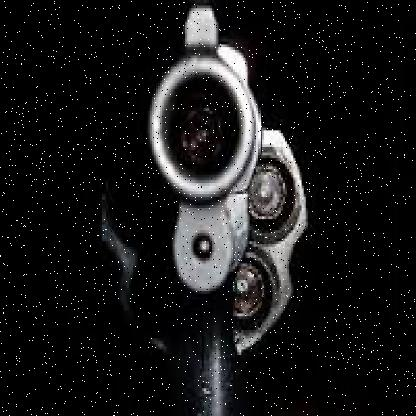pistol: (98, 8, 306, 413)
